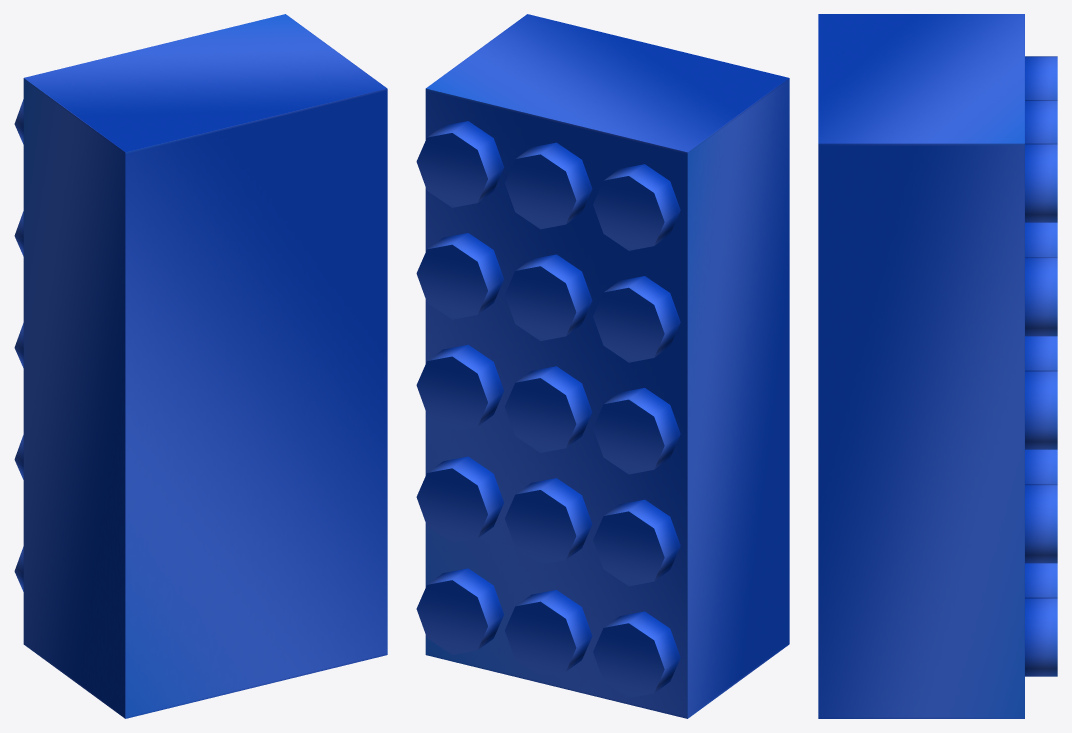
Rendered from block.FBX.
3 views of the same model, side by side, from view 1: azimuth 30°, elevation 25°; view 2: azimuth 150°, elevation 25°; view 3: azimuth 270°, elevation 25° (orthographic).
Parts seen in each view (by area): view 1: block; view 2: block; view 3: block.
Boxes of the visible parts, left/top/right/bottom form: block: left=14, top=14, right=387, bottom=718; block: left=416, top=14, right=789, bottom=718; block: left=818, top=14, right=1057, bottom=718.
Bounding box in the file's own units: 67.67 × 52.74 × 140.
Materials: 2 (2 with a texture image).
